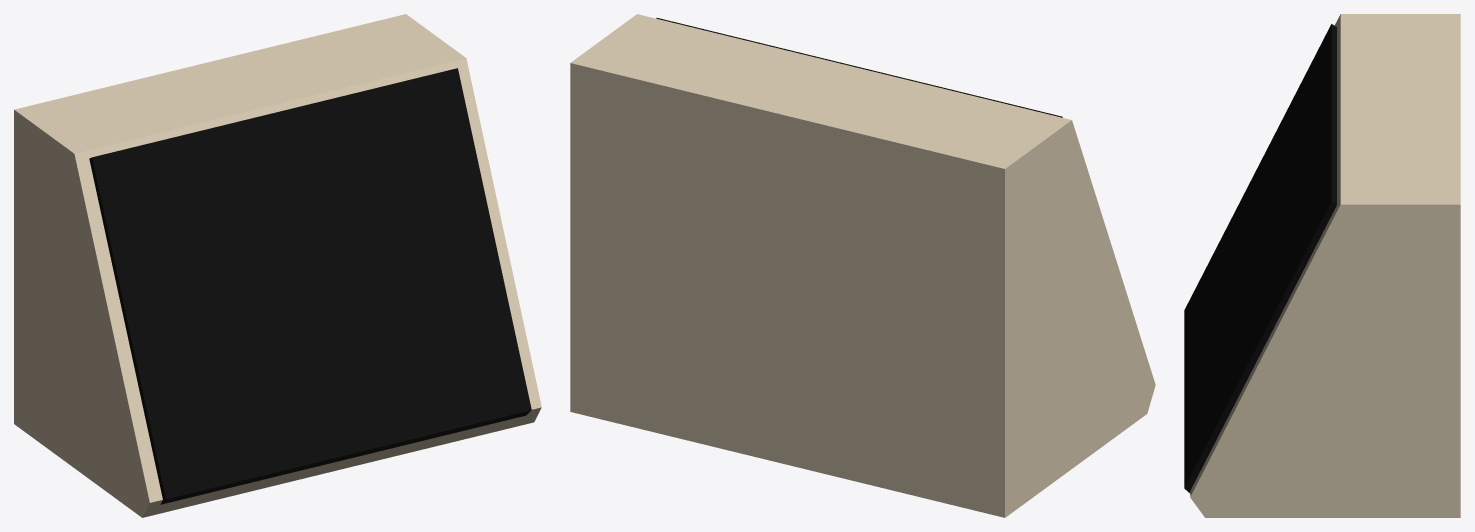
Rendered from a_hood_incl_3.glb.
The picture shows the model from 3 angles, left to right: view 1: azimuth 30°, elevation 25°; view 2: azimuth 150°, elevation 25°; view 3: azimuth 270°, elevation 25°; orthographic projection. The views are drawn at different scales.
Parts seen in each view (by area): view 1: o.001, o; view 2: o, o.001; view 3: o, o.001.
Part boxes in pixels (x1,y1,x2,y2): o.001: [89, 68, 531, 504]; o: [14, 14, 541, 517]; o: [570, 14, 1155, 517]; o.001: [656, 18, 1062, 117]; o: [1190, 14, 1460, 517]; o.001: [1184, 24, 1336, 493].
Bounding box in the file's own units: 0.6 × 0.4615 × 0.368.
